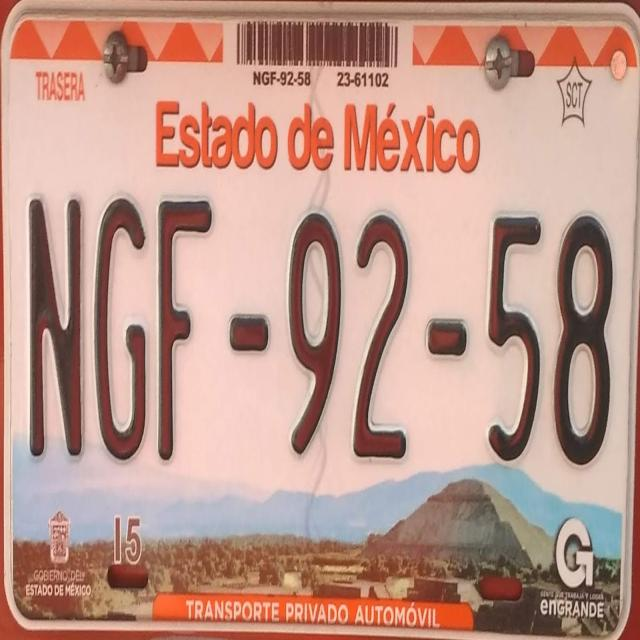placa: (3, 176, 630, 500)
